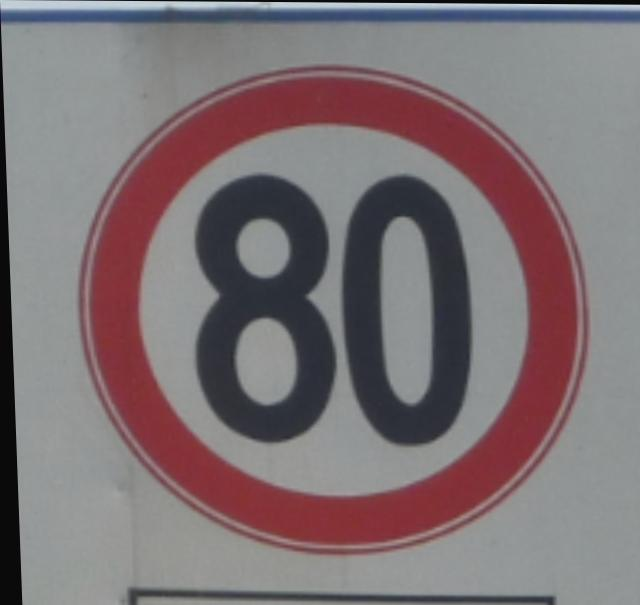limit80: (53, 54, 605, 564)
